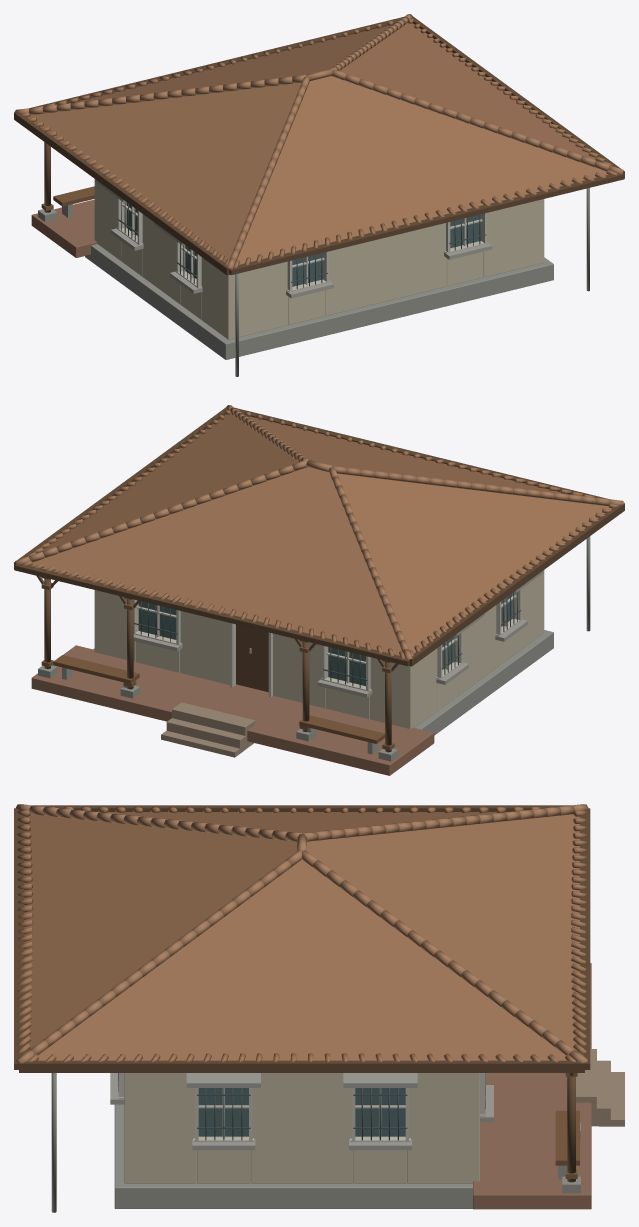
File: kerala_veranda.glb
3 views of the same model, one above another, from view 1: azimuth 30°, elevation 25°; view 2: azimuth 150°, elevation 25°; view 3: azimuth 270°, elevation 25° (orthographic). The views are drawn at different scales.
Visible parts, largest first — view 1: kerala_veranda; view 2: kerala_veranda; view 3: kerala_veranda.
Part boxes in pixels (x1=…): kerala_veranda: x1=14, y1=14, x2=624, y2=376; kerala_veranda: x1=14, y1=405, x2=624, y2=775; kerala_veranda: x1=14, y1=804, x2=624, y2=1212.
Size of the model in its own units: 11.33 by 5.34 by 11.33.
